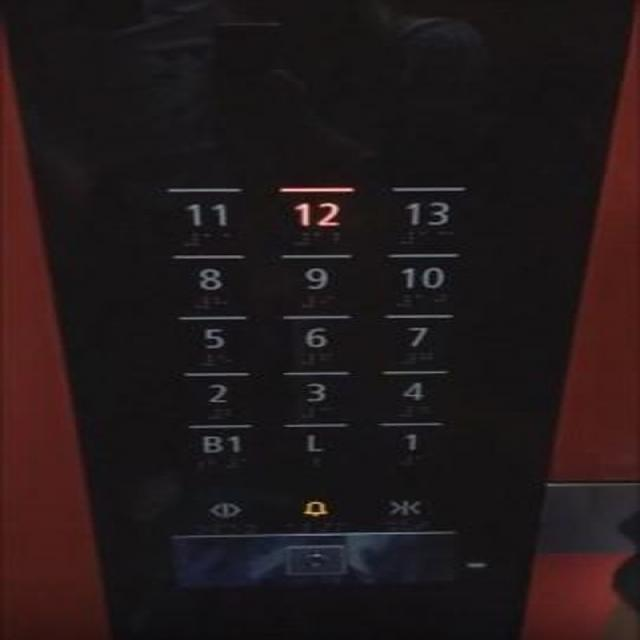1: (378, 423, 453, 469)
10: (383, 249, 461, 306)
11: (160, 184, 244, 242)
12: (274, 185, 358, 242)
13: (386, 184, 466, 242)
2: (173, 370, 256, 427)
3: (280, 369, 355, 423)
4: (380, 369, 455, 423)
5: (172, 313, 249, 367)
6: (274, 312, 358, 367)
7: (381, 310, 456, 364)
8: (166, 251, 246, 307)
9: (272, 250, 355, 306)
B1: (176, 421, 257, 475)
L: (275, 422, 353, 474)
alarm: (278, 488, 350, 530)
bt_keyhole: (276, 541, 348, 576)
close: (371, 487, 438, 532)
open: (185, 488, 259, 528)
